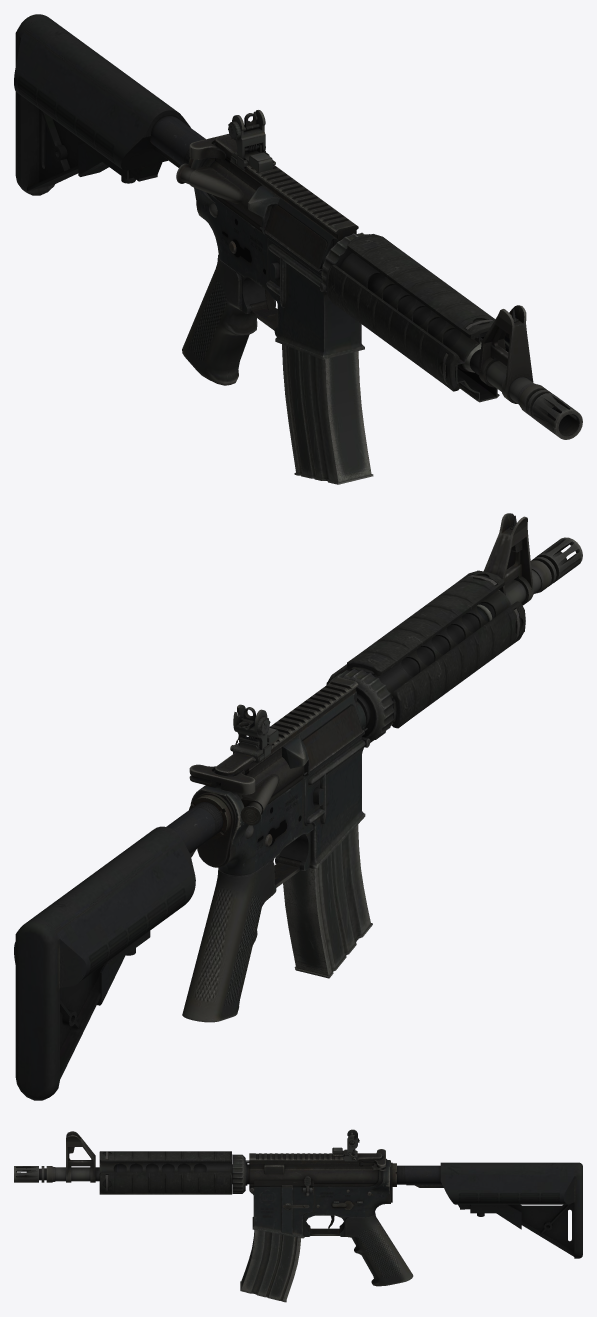
3 renders of one model, top to bottom at view 1: azimuth 30°, elevation 25°; view 2: azimuth 150°, elevation 25°; view 3: azimuth 270°, elevation 25°, orthographic. The views are drawn at different scales.
Parts seen in each view (by area): view 1: weapon; view 2: weapon; view 3: weapon.
Boxes of the visible parts, x1=… form: weapon: x1=14, y1=14, x2=582, y2=484; weapon: x1=14, y1=513, x2=582, y2=1100; weapon: x1=14, y1=1129, x2=582, y2=1302.
Bounding box in the file's own units: 3.06 × 11.33 × 35.32.
1 material, 1 textured.
